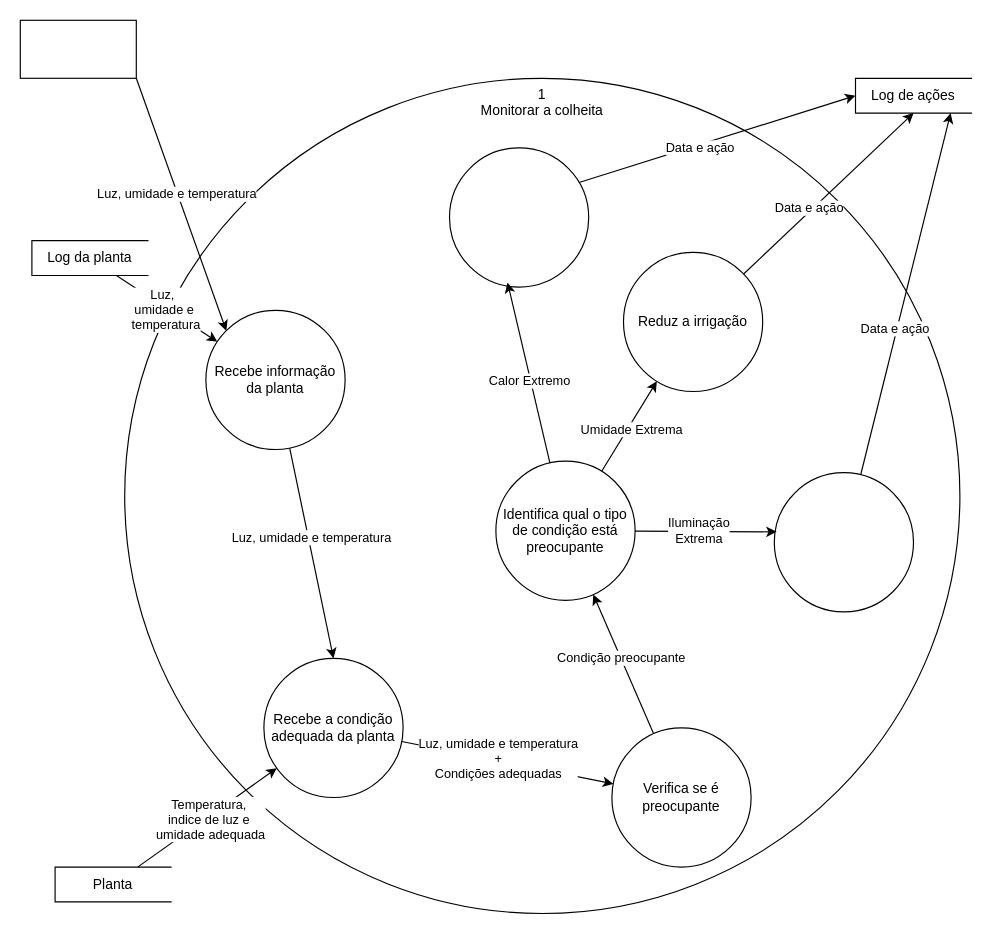
Some shapes in this 992 by 934 pixel diagram are drawn without their labels. The centre of each missing label's shape, as x and y in pixels:
"Ativa os aspersores" goes at point 518,217.
"Emite um alerta ao usuário" goes at point 843,542.
"Sensor" goes at point 77,48.
